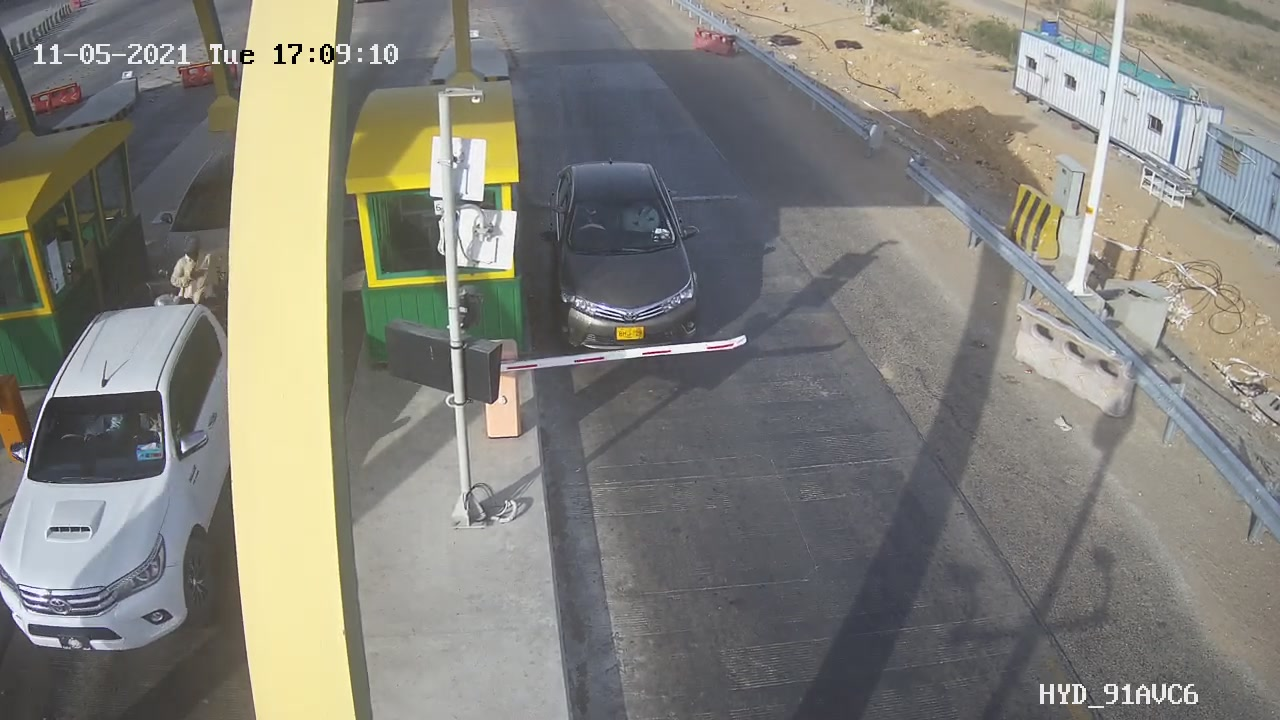F1: (524, 136, 724, 379)
